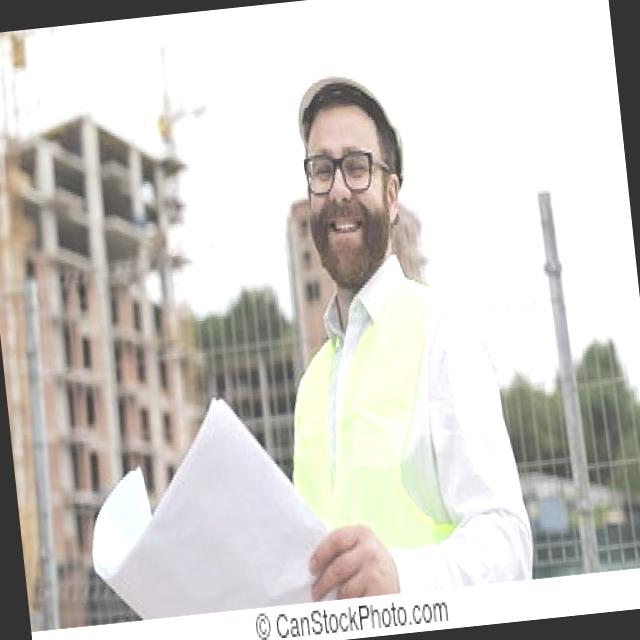goggles: (298, 142, 394, 200)
helmet: (294, 44, 409, 144)
vest: (272, 265, 461, 560)
